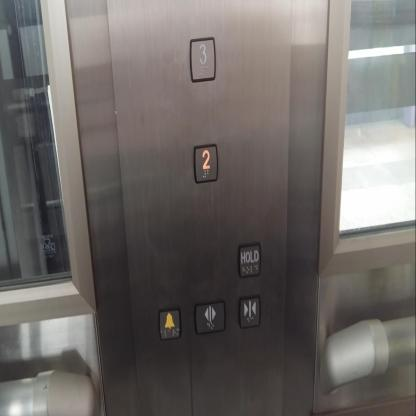2: (193, 143, 218, 184)
3: (189, 36, 217, 83)
alarm: (157, 305, 182, 342)
close: (237, 291, 261, 331)
open: (194, 299, 226, 335)
text_HOLD: (238, 240, 262, 278)
